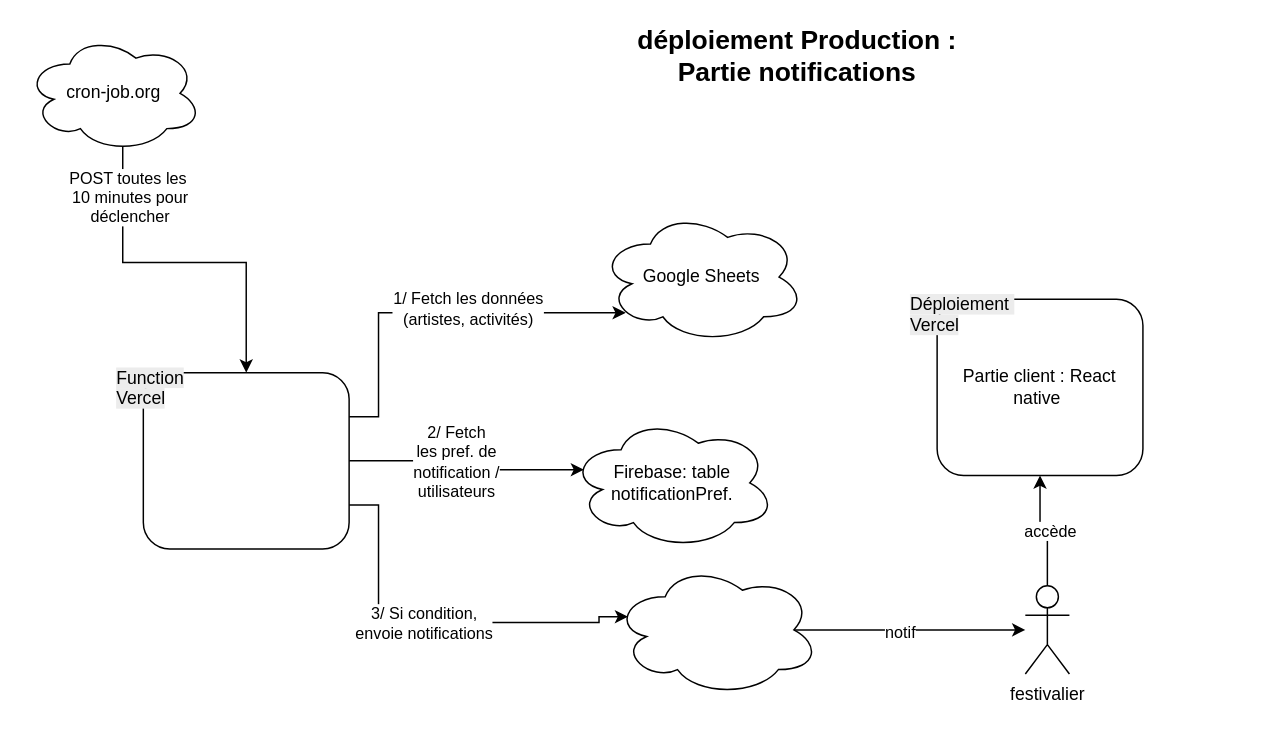
The diagram is 1272 pixels wide and 731 high, and some of its shapes have lost their labels. Each missing label, with the box of its shape:
API notification: endpoint: (142, 371, 349, 549)
One Signal: (612, 562, 820, 696)
